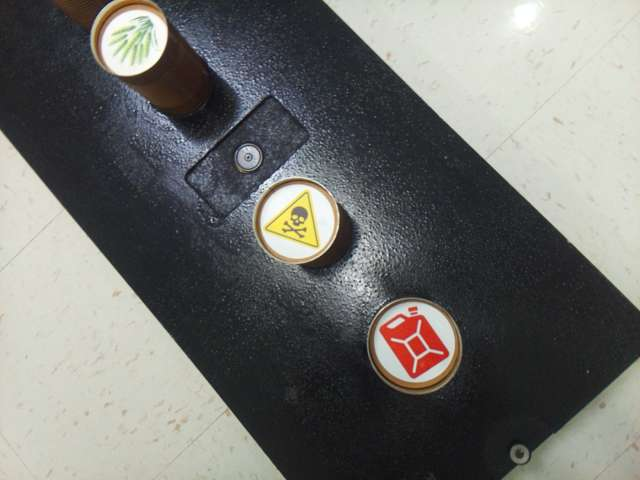gasoline: (375, 302, 455, 383)
toxic_fluid: (259, 184, 333, 257)
wheat_barrel: (99, 9, 165, 73)
